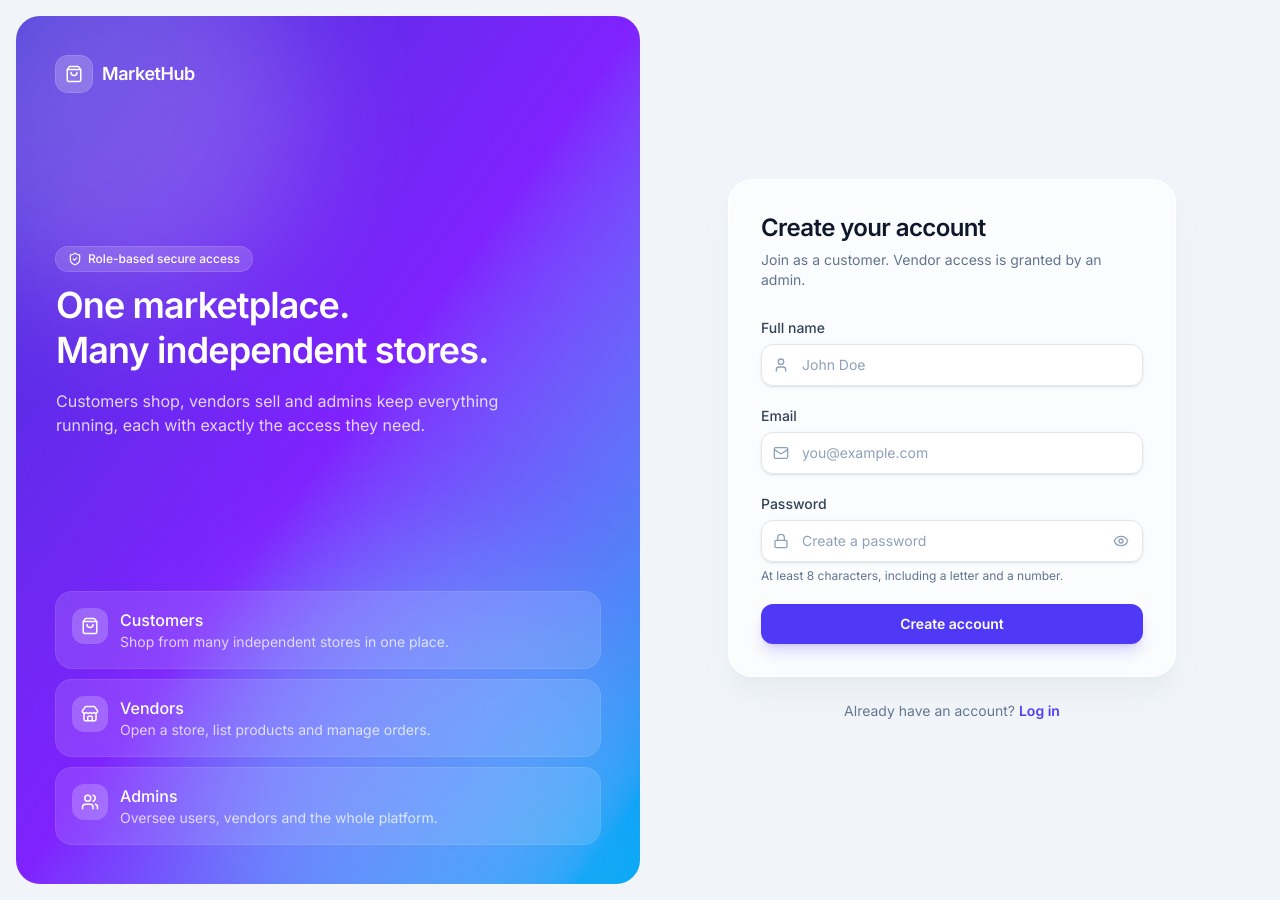
Test case: Register › shows every field error the server returns
Step 1. Click the button "Create account" → [952, 624], box 761,604 -> 1143,644
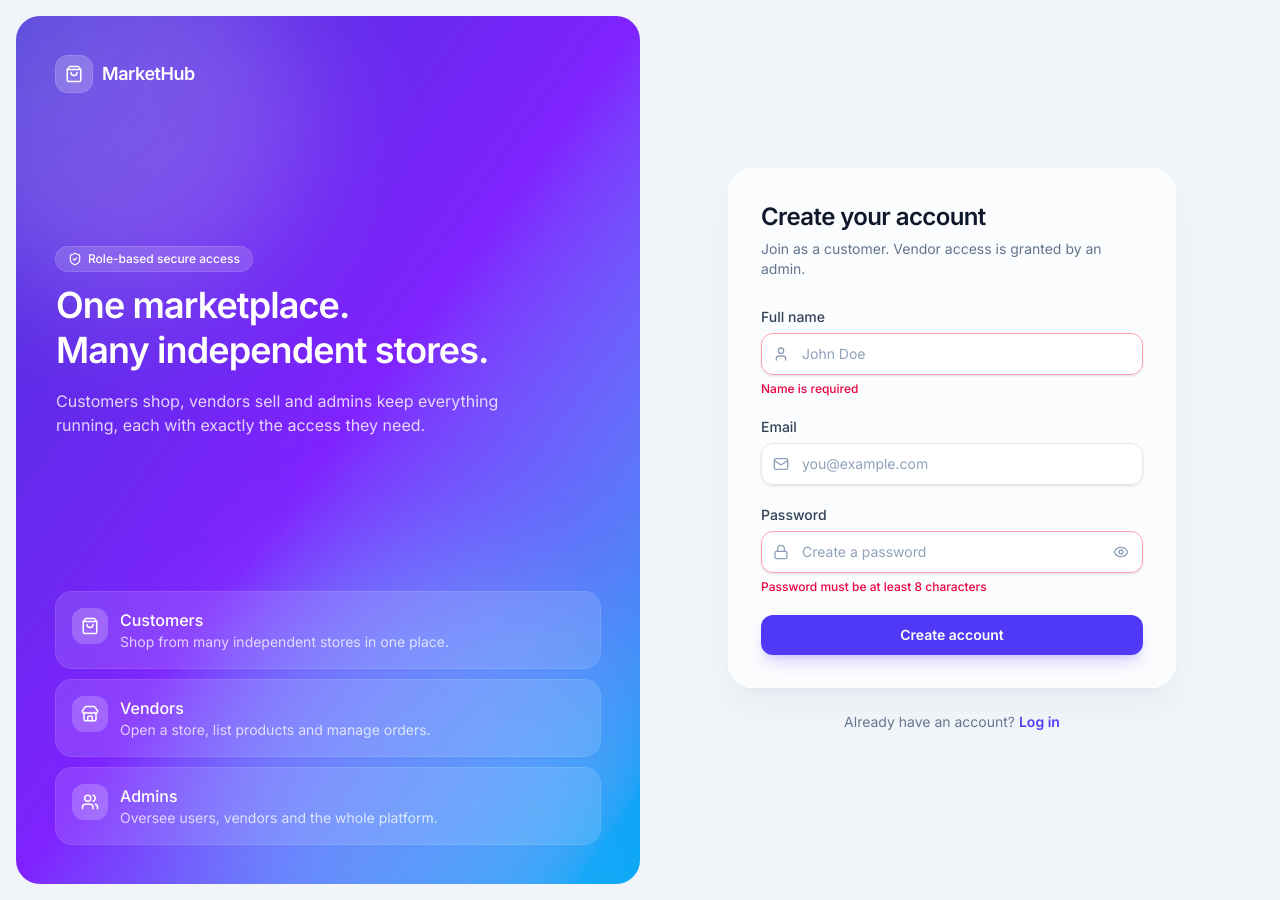
expect the text "Name is required" is shown: met, box 761,381 -> 858,396
expect the text "Password must be at least 8 characters" is shown: met, box 761,579 -> 987,594
